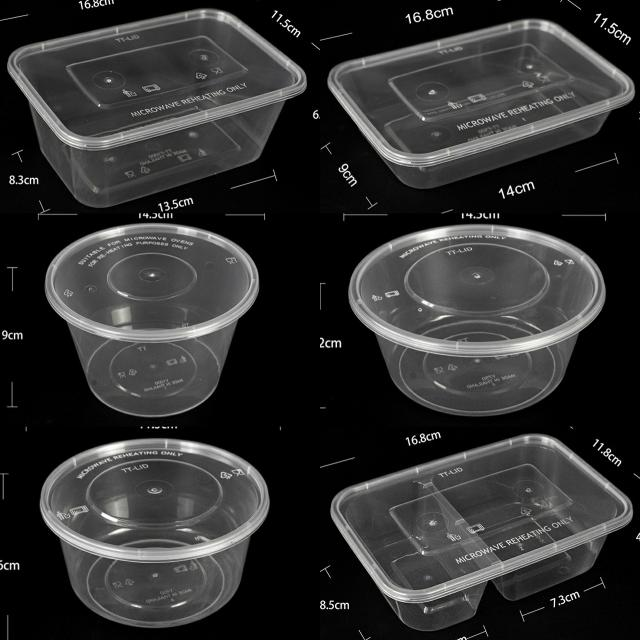plastik: (8, 9, 306, 208), (332, 435, 632, 630), (328, 19, 634, 188), (349, 225, 604, 415), (40, 439, 269, 628), (45, 224, 259, 416)
